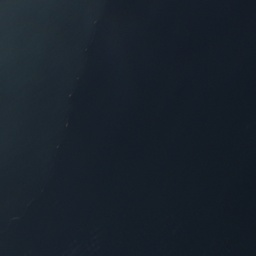Marine Debris: (67, 92, 73, 99), (93, 21, 97, 25)
